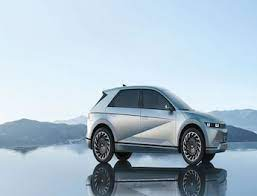Honda Ioniq: (81, 76, 231, 174)
